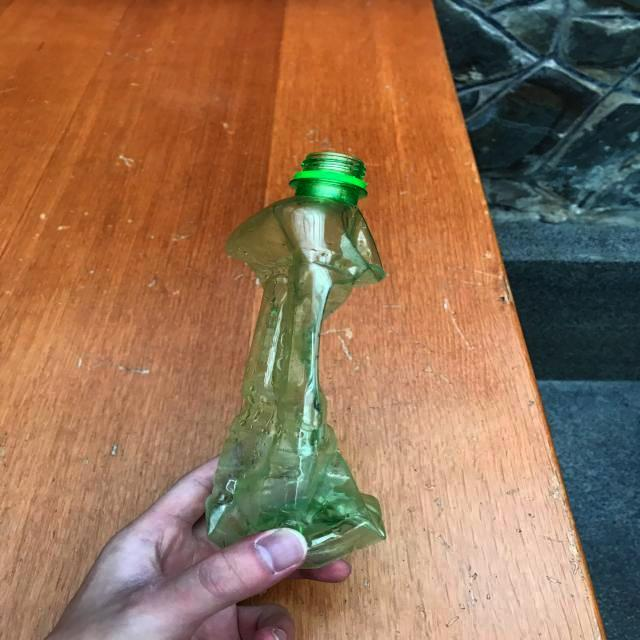bottle: (204, 152, 386, 569)
